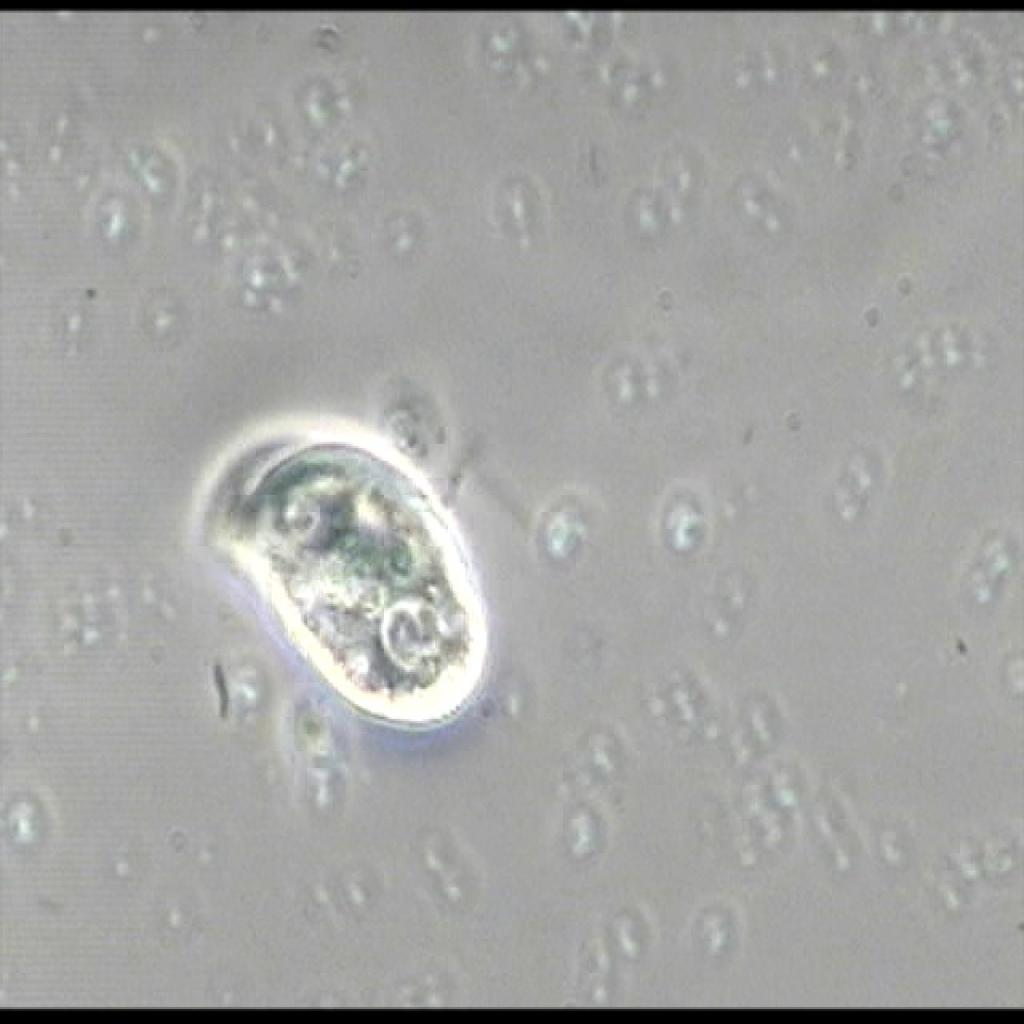Chilodonella: (178, 412, 516, 727)
